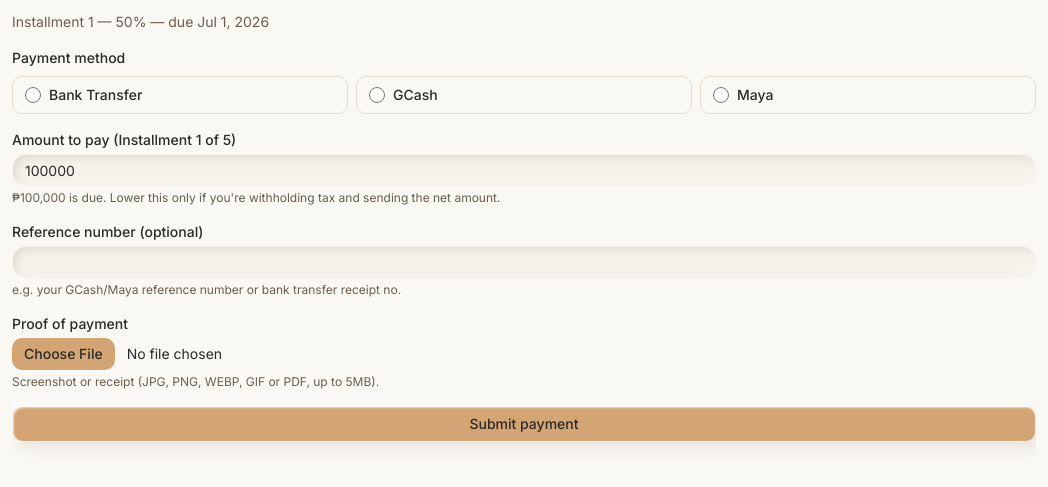
Test: PaymentForm — withholding-tax amounts › rejects an amount short by more than the withholding tolerance
This screenshot has width=1048, height=487.
Replace the text in the field labelled "Amount to pay (Installment 1 of 5)" with "50000" at (524, 170), box [12,154,1036,186]
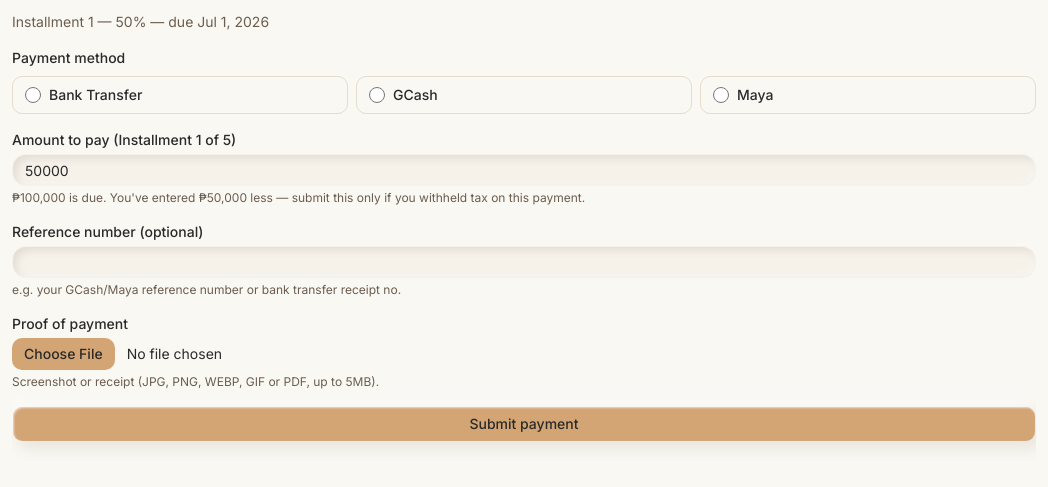
Submit the form from the button "Submit payment", box [12,406,1036,442]
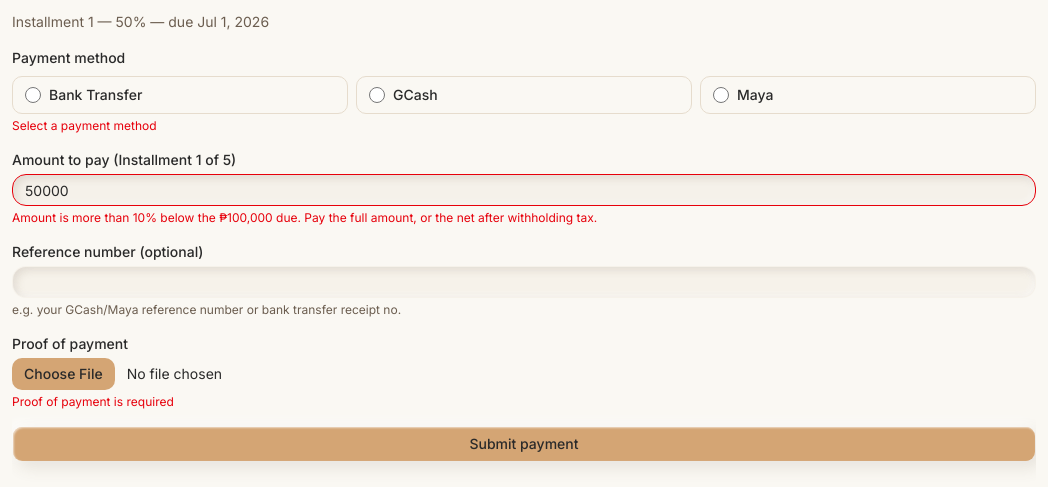
Check: the text "more than 10% below" is shown, box [12,210,597,225]
